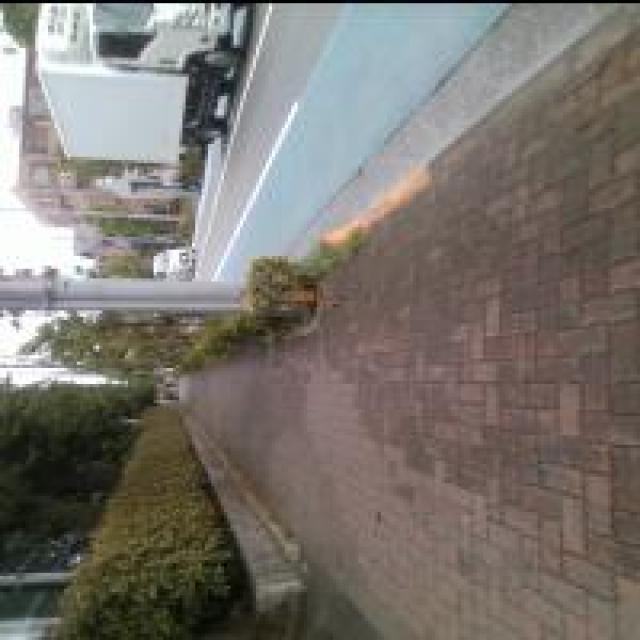Automobile: (36, 3, 249, 162), (154, 247, 193, 280)
Obstacle: (181, 257, 318, 371), (0, 276, 239, 310)
Road: (198, 4, 639, 281)
Sidewalk: (189, 11, 639, 639)
